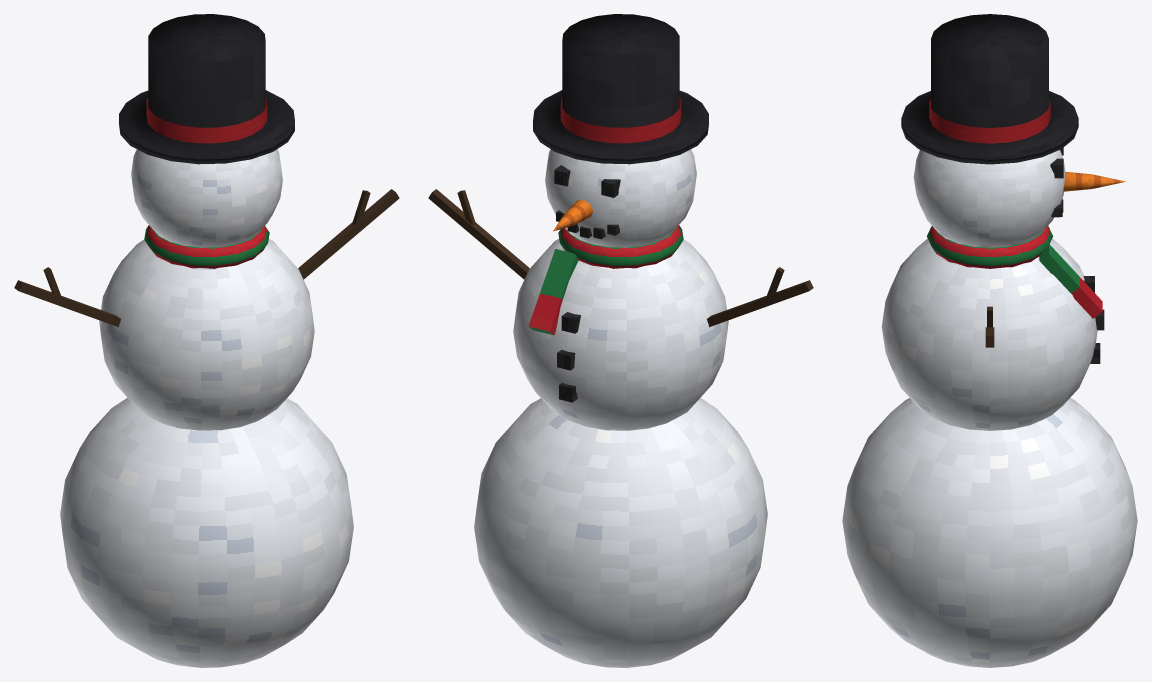
File: snowman.obj
The picture shows the model from 3 angles, left to right: view 1: azimuth 30°, elevation 25°; view 2: azimuth 150°, elevation 25°; view 3: azimuth 270°, elevation 25°; orthographic projection.
Visible parts, largest first — view 1: snowman; view 2: snowman; view 3: snowman.
Boxes of the visible parts, box(x1,y1,x2,y2) form: snowman: box(14, 14, 399, 667); snowman: box(428, 14, 813, 667); snowman: box(842, 14, 1137, 667).
Size of the model in its own units: 1.12 by 1.7 by 0.75.
